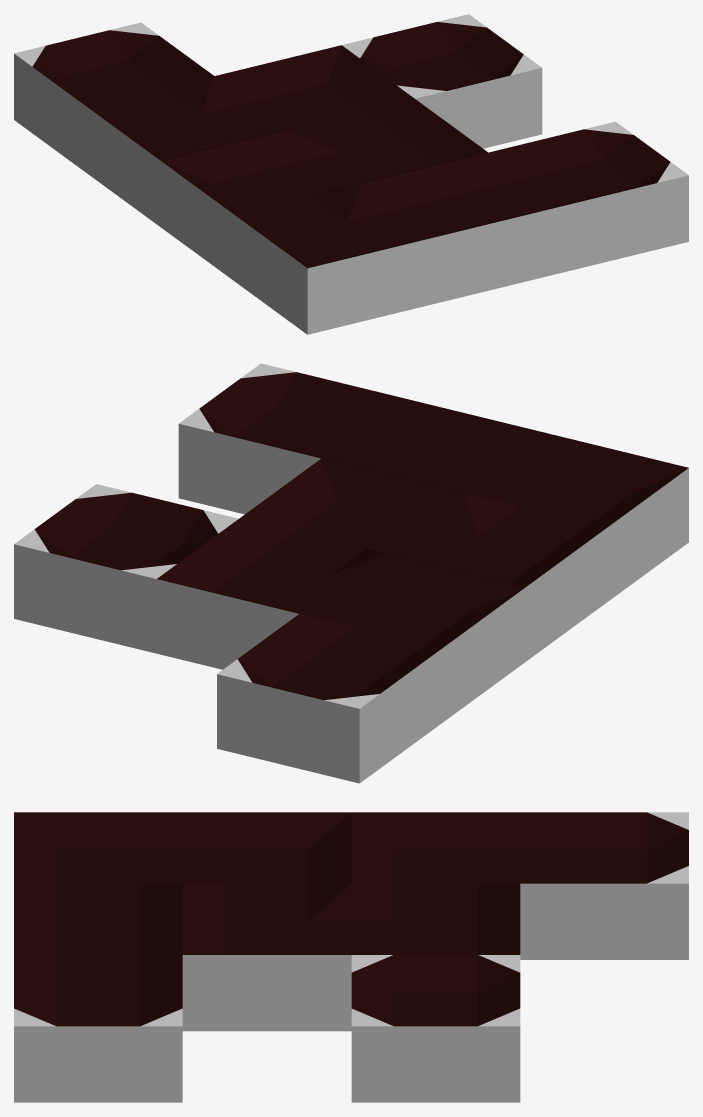
File: 38s_path.obj
3 views of the same model, one above another, from view 1: azimuth 30°, elevation 25°; view 2: azimuth 150°, elevation 25°; view 3: azimuth 270°, elevation 25° (orthographic). The views are drawn at different scales.
Parts seen in each view (by area): view 1: corner.0.1_corner.373, ending.2.1_ending.150, through.1.1_through.075, ending.0.4_ending.149, hole.2.3_Cube.076, corner.0.2_corner.374, corner.1.3_corner.377, corner.0.3_corner.375, corner.1.2_corner.376; view 2: ending.0.4_ending.149, hole.2.3_Cube.076, ending.2.1_ending.150, corner.0.3_corner.375, corner.0.1_corner.373, corner.1.3_corner.377, corner.1.2_corner.376, corner.0.2_corner.374, through.1.1_through.075; view 3: hole.2.3_Cube.076, ending.0.4_ending.149, corner.1.2_corner.376, ending.2.1_ending.150, corner.0.2_corner.374, corner.0.3_corner.375, corner.0.1_corner.373, through.1.1_through.075, corner.1.3_corner.377.
Part boxes in pixels (x1,y1,x2,y2): corner.0.1_corner.373: [234, 184, 434, 334]; ending.2.1_ending.150: [489, 121, 688, 272]; through.1.1_through.075: [361, 152, 561, 303]; ending.0.4_ending.149: [14, 22, 214, 173]; hole.2.3_Cube.076: [342, 14, 542, 148]; corner.0.2_corner.374: [160, 130, 360, 280]; corner.1.3_corner.377: [214, 45, 414, 138]; corner.0.3_corner.375: [87, 76, 284, 226]; corner.1.2_corner.376: [288, 99, 487, 186]; ending.0.4_ending.149: [217, 614, 441, 783]; hole.2.3_Cube.076: [14, 484, 238, 653]; ending.2.1_ending.150: [178, 363, 403, 514]; corner.0.3_corner.375: [300, 553, 524, 722]; corner.0.1_corner.373: [464, 433, 688, 602]; corner.1.3_corner.377: [156, 519, 380, 669]; corner.1.2_corner.376: [239, 458, 463, 563]; corner.0.2_corner.374: [384, 493, 606, 662]; through.1.1_through.075: [324, 398, 545, 496]; hole.2.3_Cube.076: [351, 955, 520, 1102]; ending.0.4_ending.149: [520, 812, 688, 959]; corner.1.2_corner.376: [182, 883, 351, 1031]; ending.2.1_ending.150: [14, 955, 182, 1102]; corner.0.2_corner.374: [182, 812, 351, 902]; corner.0.3_corner.375: [351, 812, 520, 902]; corner.0.1_corner.373: [14, 812, 182, 902]; through.1.1_through.075: [14, 883, 182, 973]; corner.1.3_corner.377: [351, 884, 520, 954].
Bounding box in the file's own units: 6 × 1 × 8.
